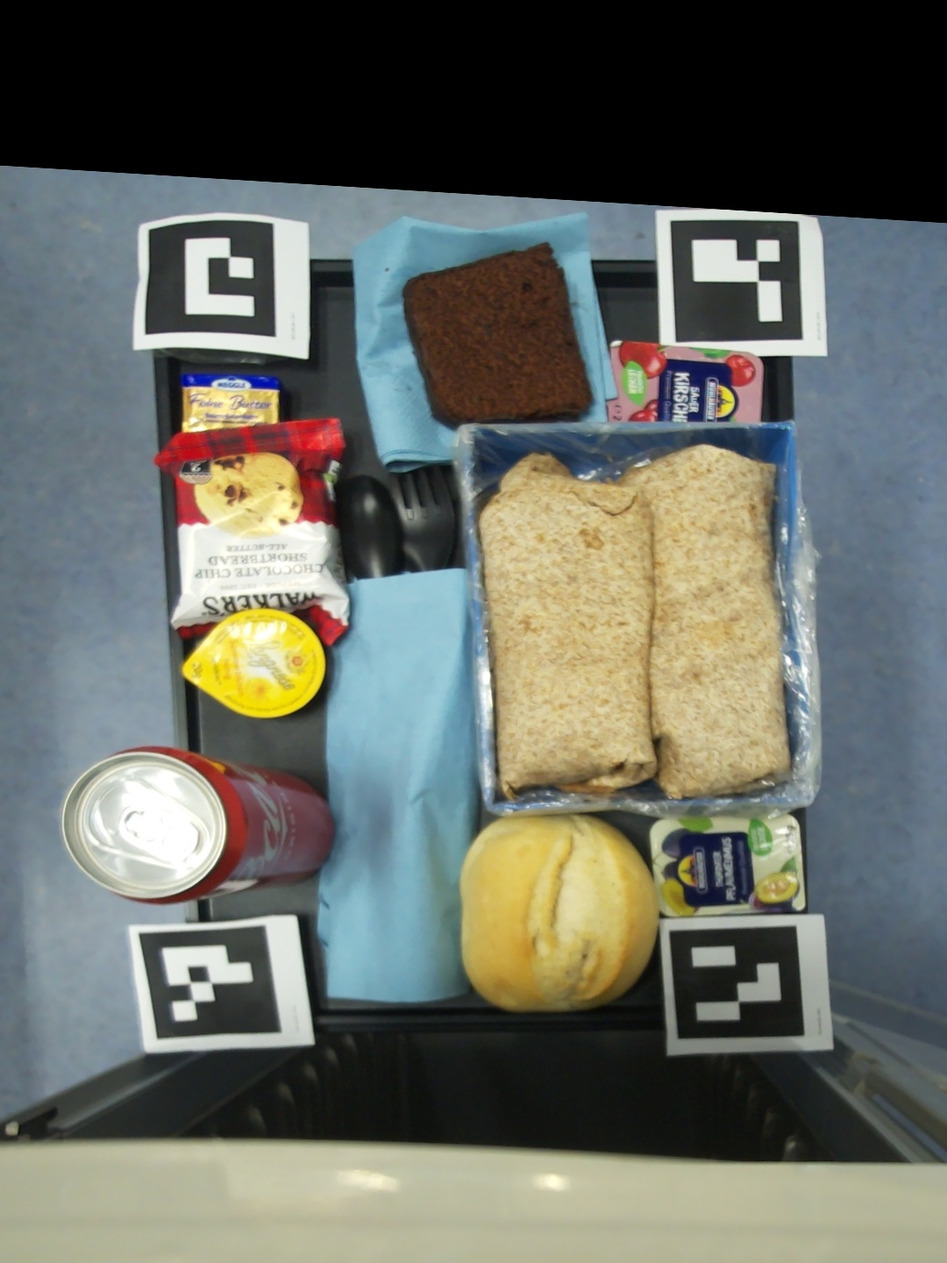bread_roll: (460, 814, 657, 1011)
brownie: (404, 242, 594, 430)
butter: (182, 375, 280, 435)
cherry_jam: (606, 340, 763, 423)
cola: (63, 745, 336, 904)
cookie: (153, 419, 351, 648)
honey: (181, 608, 325, 720)
plum_jam: (648, 814, 805, 917)
wrap_half_1: (478, 453, 655, 799)
wrap_half_2: (613, 444, 788, 802)
